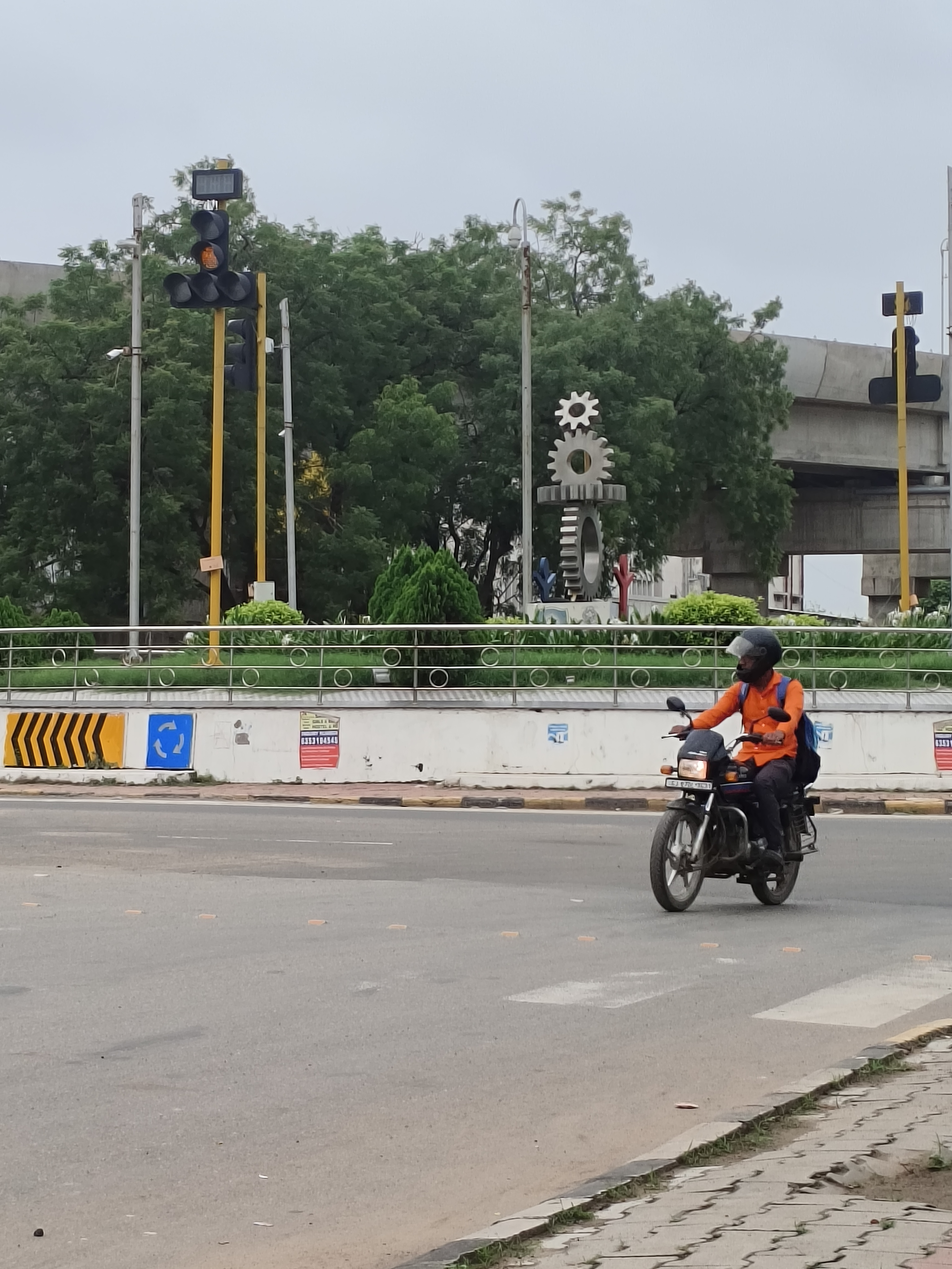BikeWithRider: (618, 600, 849, 944)
Helmet: (712, 617, 794, 696)
